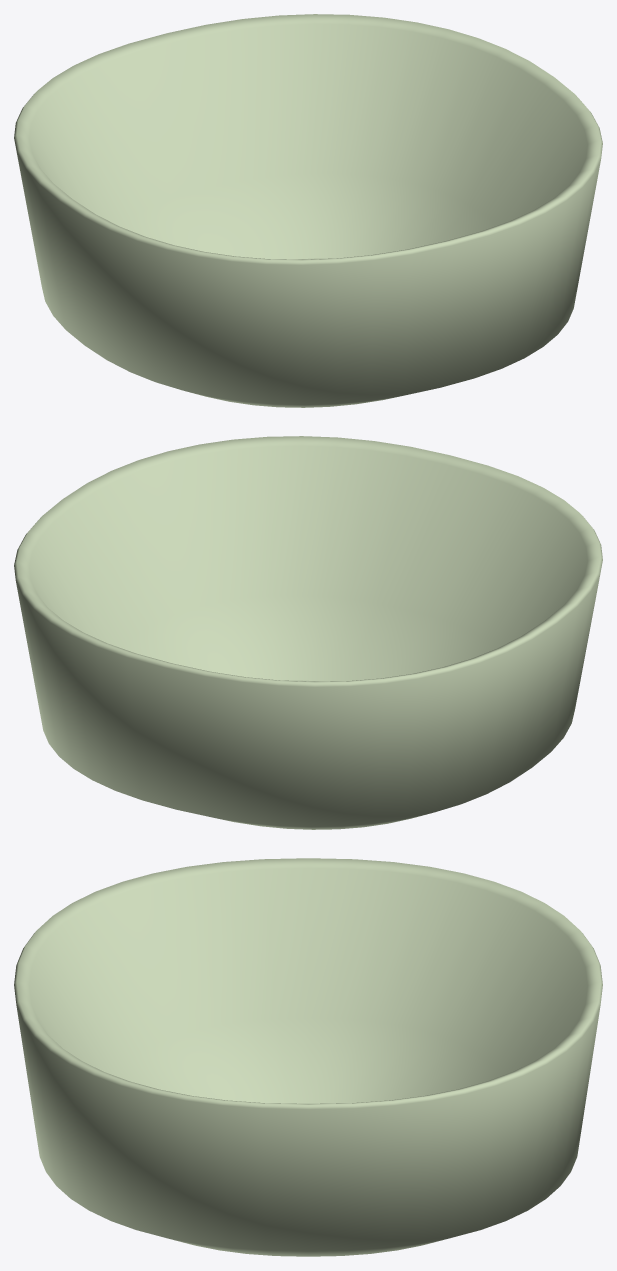
Rendered from vessel-sink.glb.
3 renders of one model, top to bottom at view 1: azimuth 30°, elevation 25°; view 2: azimuth 150°, elevation 25°; view 3: azimuth 270°, elevation 25°, orthographic. The views are drawn at different scales.
Parts seen in each view (by area): view 1: catalog_surface_RealismUV; view 2: catalog_surface_RealismUV; view 3: catalog_surface_RealismUV.
Part boxes in pixels (x1,y1,x2,y2): catalog_surface_RealismUV: (14,14,602,407); catalog_surface_RealismUV: (14,436,602,829); catalog_surface_RealismUV: (14,858,602,1256).
Size of the model in its own units: 0.46 by 0.16 by 0.46.
